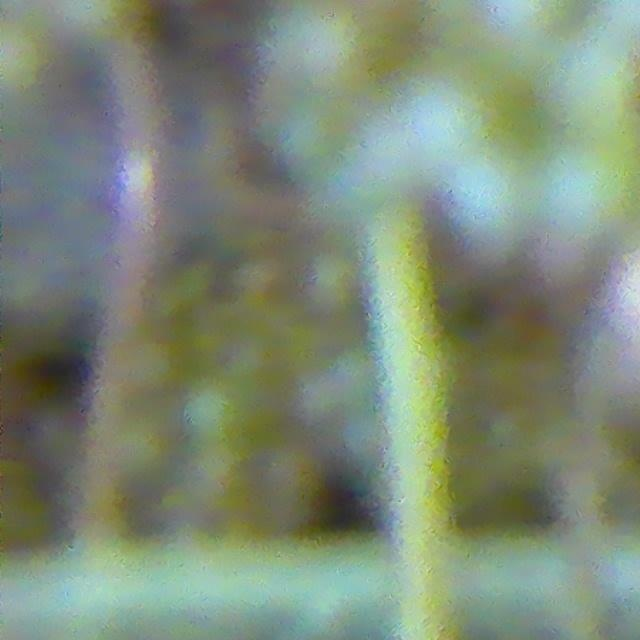SeaGrape: (263, 0, 377, 95), (447, 156, 527, 238), (182, 371, 259, 447), (0, 20, 50, 96)
